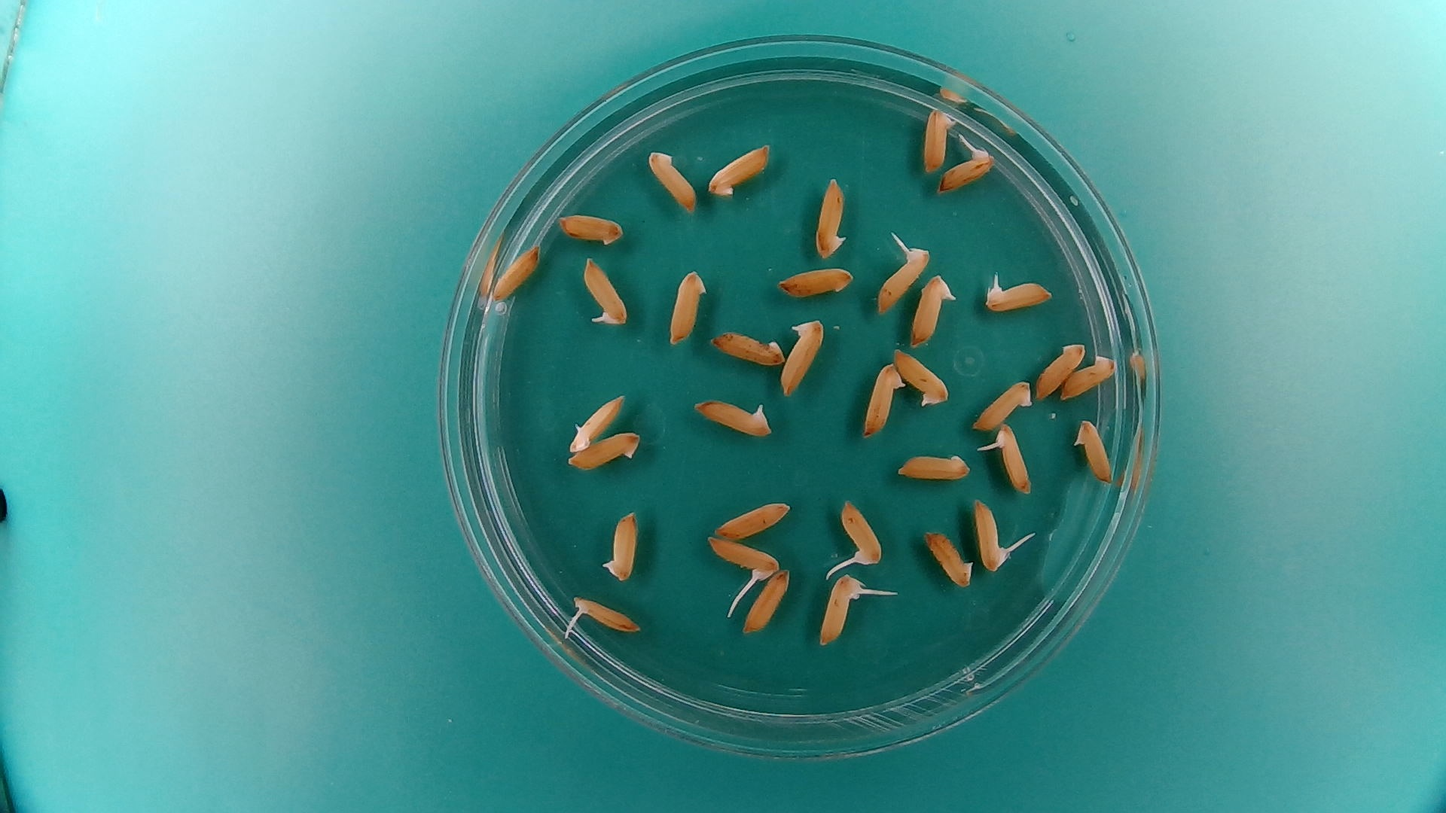no: (704, 139, 774, 200), (858, 361, 907, 443), (643, 145, 700, 215), (664, 264, 710, 349), (707, 497, 792, 542), (705, 325, 787, 370), (565, 428, 645, 473), (810, 173, 850, 261), (969, 376, 1033, 431), (1031, 340, 1088, 401), (921, 525, 976, 588), (490, 242, 543, 304), (743, 568, 792, 635), (552, 208, 631, 249), (600, 505, 641, 583), (773, 262, 856, 300), (893, 446, 974, 483), (1060, 353, 1119, 400), (920, 104, 959, 175), (1075, 421, 1115, 483)
yes: (778, 313, 828, 400), (873, 243, 929, 317), (567, 388, 629, 454), (892, 348, 955, 409), (581, 252, 631, 328), (907, 276, 956, 349), (821, 577, 870, 650), (695, 399, 775, 440), (706, 537, 782, 580), (936, 147, 996, 196), (840, 500, 881, 569), (994, 426, 1033, 495), (981, 274, 1050, 312), (972, 500, 1009, 570), (575, 598, 642, 634)
